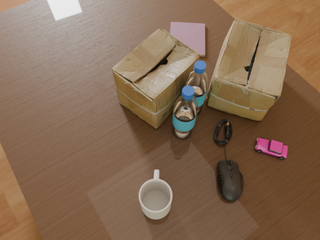book: (170, 22, 205, 56)
bottle: (172, 85, 198, 139), (185, 61, 208, 115)
box: (112, 29, 200, 129), (206, 19, 292, 121)
cup: (139, 170, 172, 219)
mouse: (217, 158, 244, 201)
toy_car: (255, 138, 288, 159)
